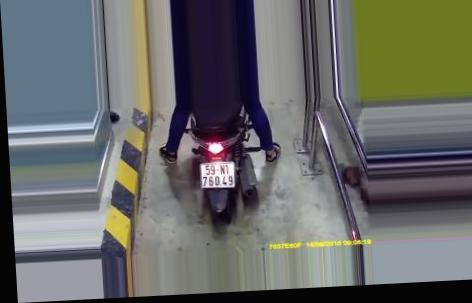License_Plate: (195, 157, 239, 191)
